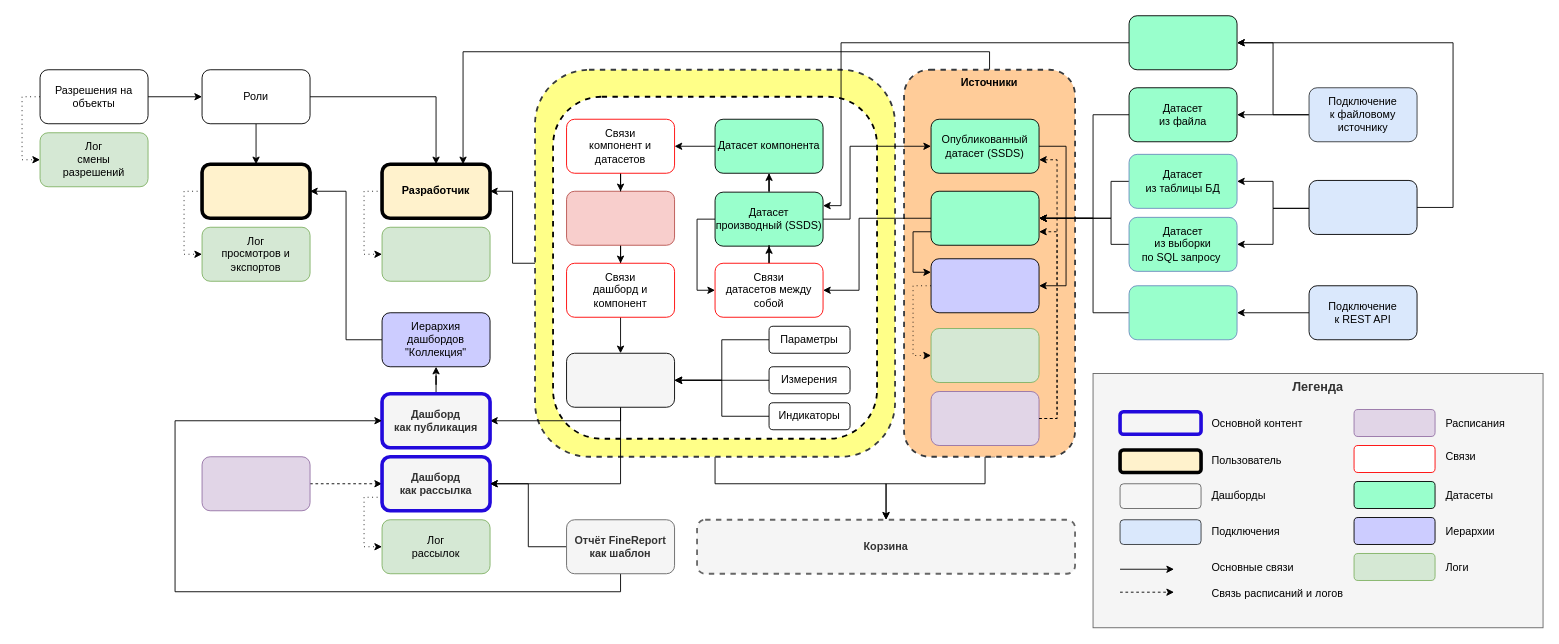
Some shapes in this 1559 by 644 pixel diagram are drawn without their labels. Each missing label, with the box of its shape:
"Песочница" разработчиков: (534, 68, 896, 457)
Бизнес-пользователь: (200, 162, 311, 220)
Датасет Restful API: (1128, 285, 1237, 340)
Дашборд как шаблон: (566, 352, 675, 407)
Иерархия датасетов "Источники": (930, 258, 1039, 313)
Компонент дашборда: (566, 190, 675, 245)
Лог обновлений: (930, 328, 1039, 382)
Лог разработки: (381, 226, 490, 281)
Первичный датасет "Источники": (930, 190, 1039, 245)
Подключение к БД: (1308, 180, 1417, 234)
Рабочая книга: (552, 95, 878, 439)
Расписание обновлений: (930, 391, 1039, 446)
Расписание рассылок: (201, 456, 310, 511)
Серверный датасет: (1128, 15, 1237, 70)
